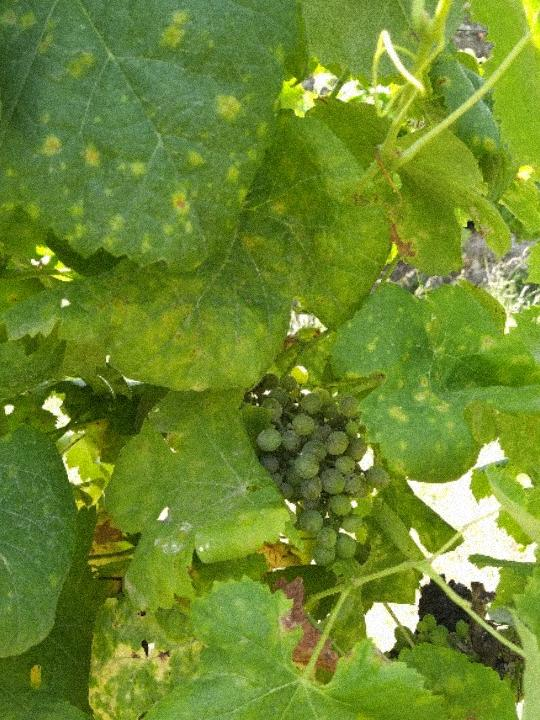grape: (253, 362, 393, 571)
